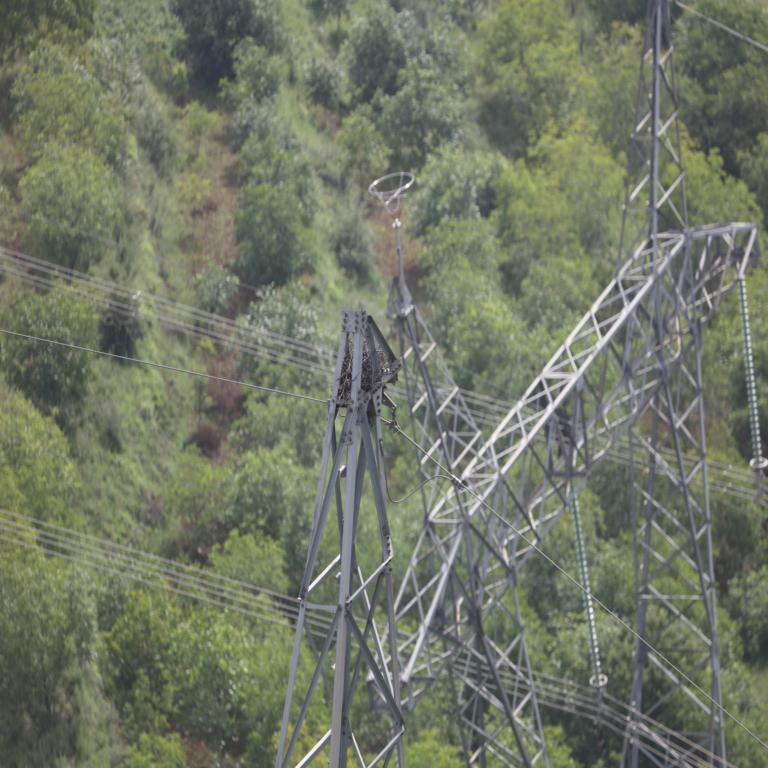nest: (340, 354, 382, 396)
